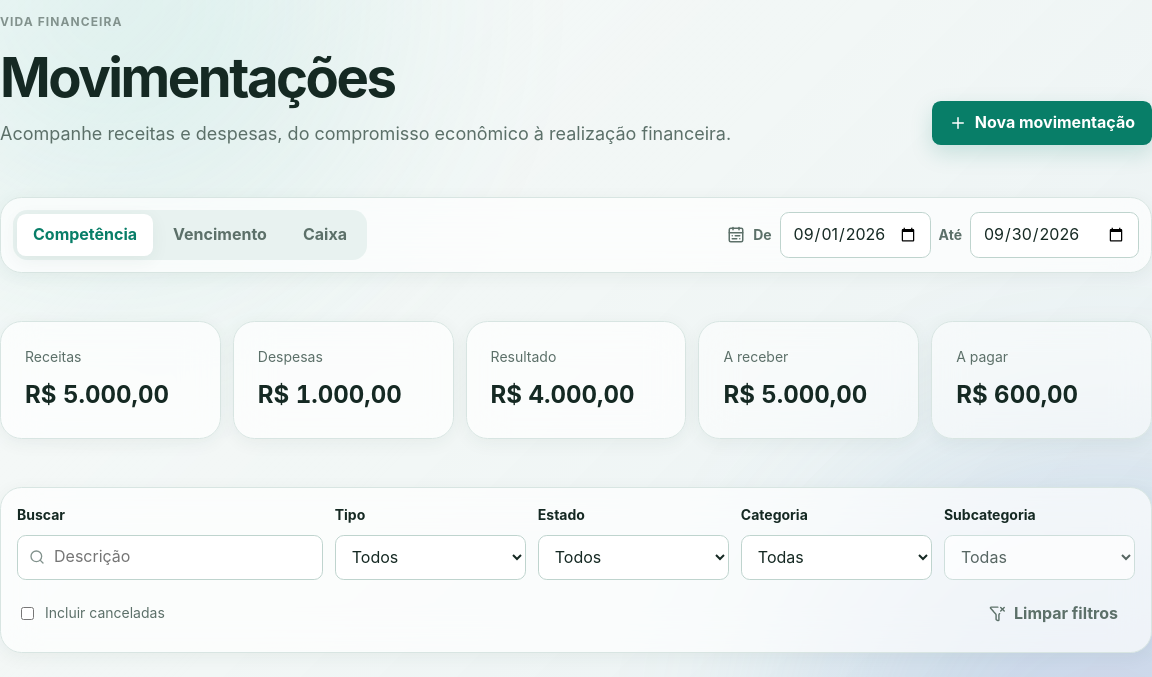
Test: Movimentações Web › distingue o liquidado no período do total na perspectiva de caixa
Click the button "Caixa".
click(325, 235)  # box [287,214,363,256]
(page scrolled)
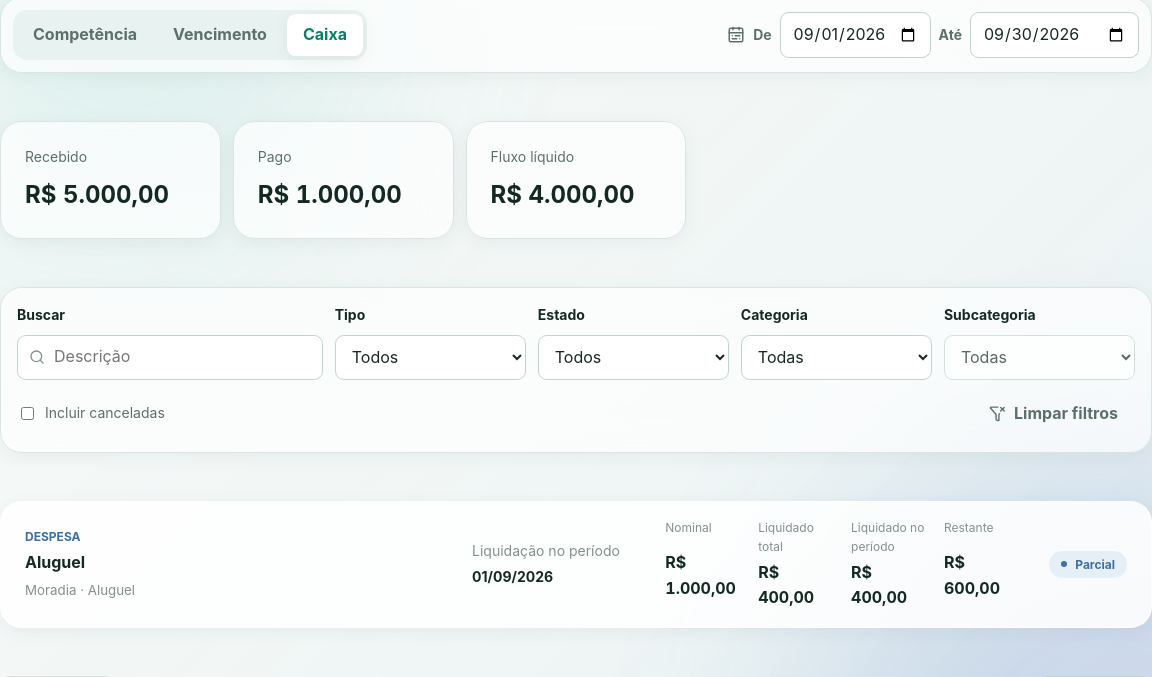
Expected: the text "Liquidado total" is shown, [758,520,814,554]
Expected: the text "Liquidado no período" is shown, [851,518,932,556]
Expected: the text "R$ 400,00" is shown 2 times, [758,562,814,608]; [851,562,907,608]
